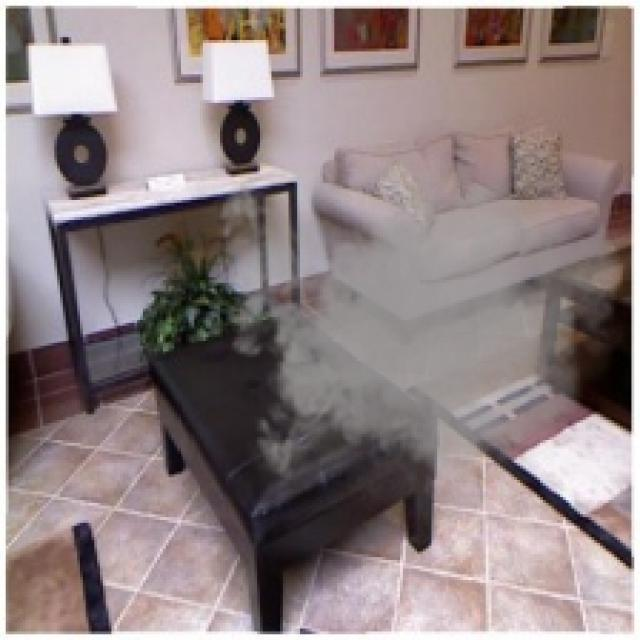Smoke: (205, 117, 626, 540)
